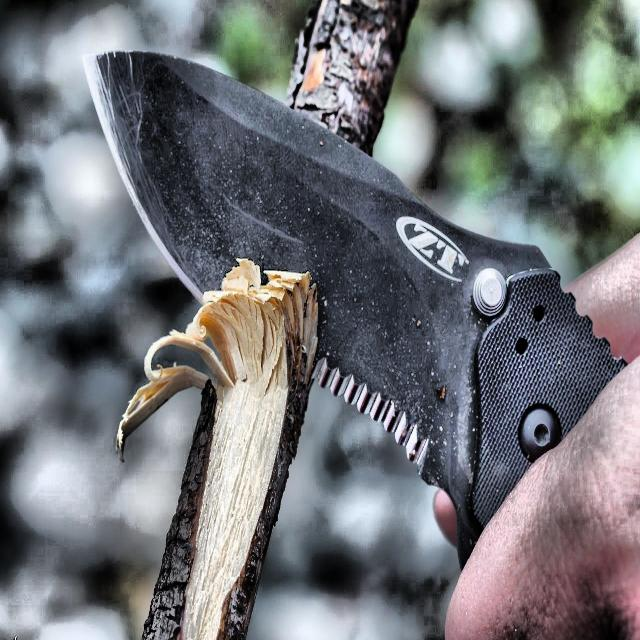knife: (84, 52, 629, 570)
